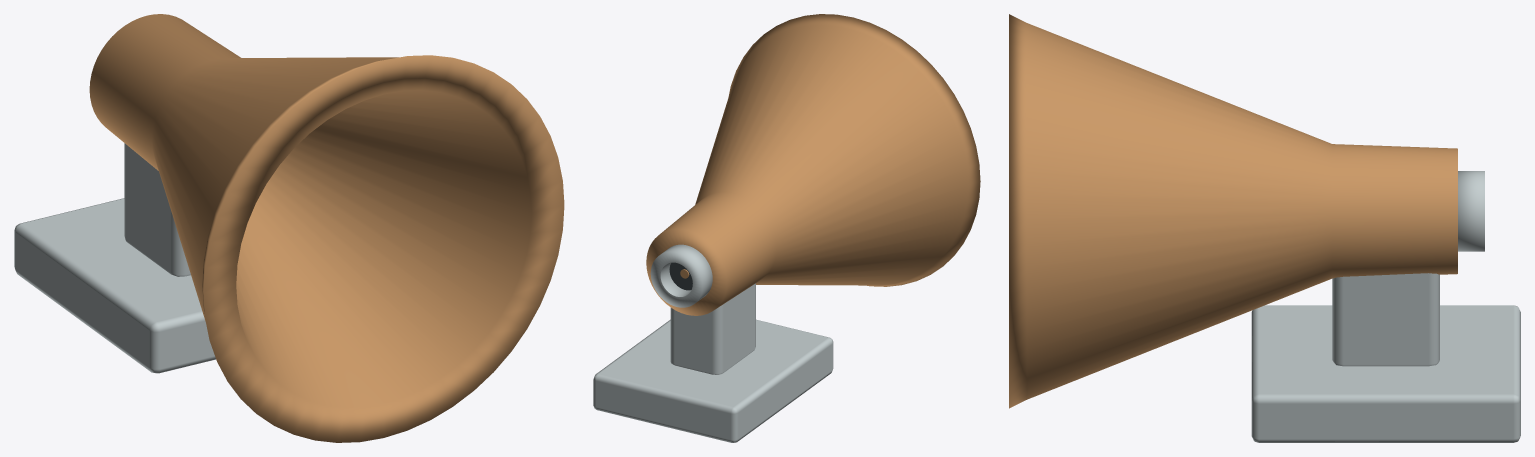
Rendered from broadcast-tower-and-relay-station-broadcast-tower-and--e80a7785__30246.glb.
3 views of the same model, side by side, from view 1: azimuth 30°, elevation 25°; view 2: azimuth 150°, elevation 25°; view 3: azimuth 270°, elevation 25° (orthographic). The views are drawn at different scales.
Parts seen in each view (by area): view 1: broadcast-tower-and-relay-station-feed-horn; view 2: broadcast-tower-and-relay-station-feed-horn; view 3: broadcast-tower-and-relay-station-feed-horn.
Boxes of the visible parts, <box> form: broadcast-tower-and-relay-station-feed-horn: <box>14,14,564,442</box>; broadcast-tower-and-relay-station-feed-horn: <box>593,14,980,442</box>; broadcast-tower-and-relay-station-feed-horn: <box>1009,14,1520,442</box>.
Bounding box in the file's own units: 0.44 × 0.45 × 0.57.
